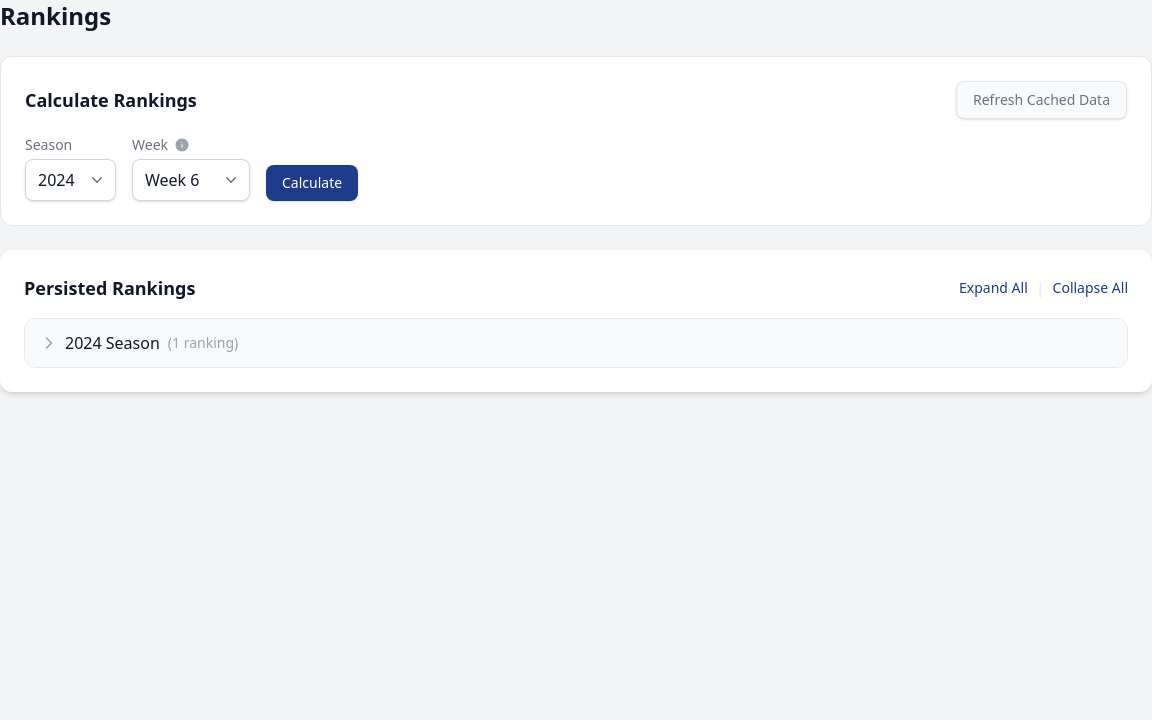
Test case: RankingsSnapshotsPage › does not delete when confirm modal is cancelled
The image size is (1152, 720).
Click the text "2024 Season": (112, 343) [65,331,160,355]
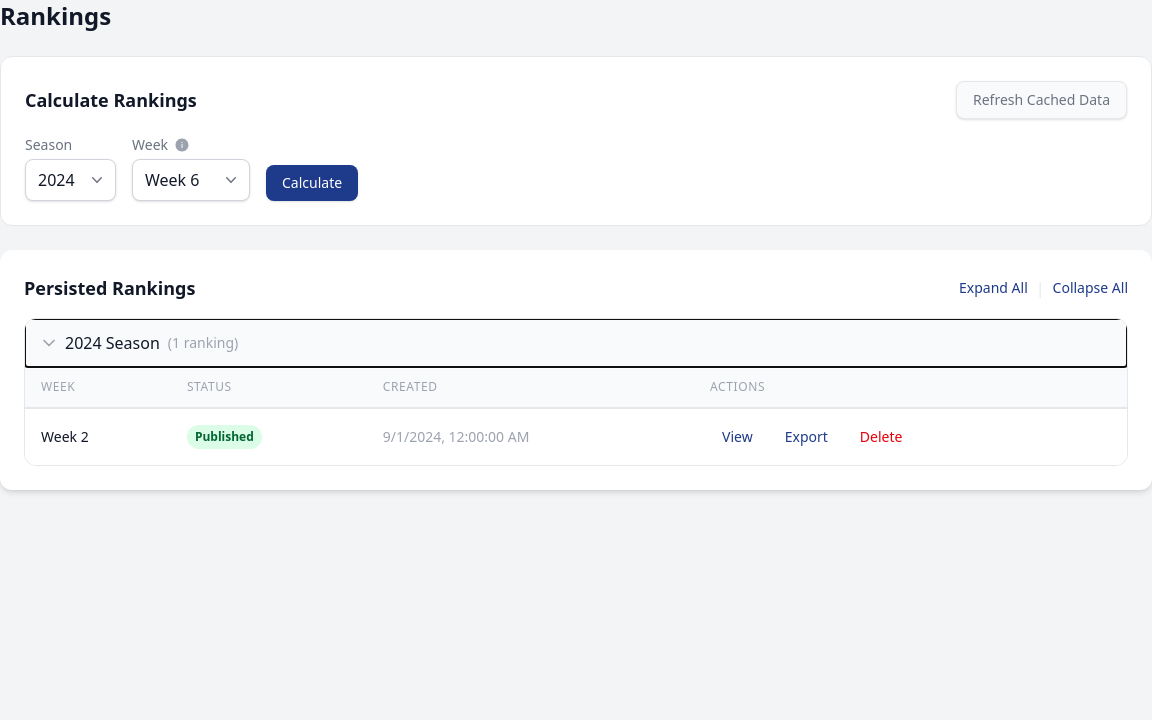
Click the button "Delete": (881, 437) [848,421,914,453]
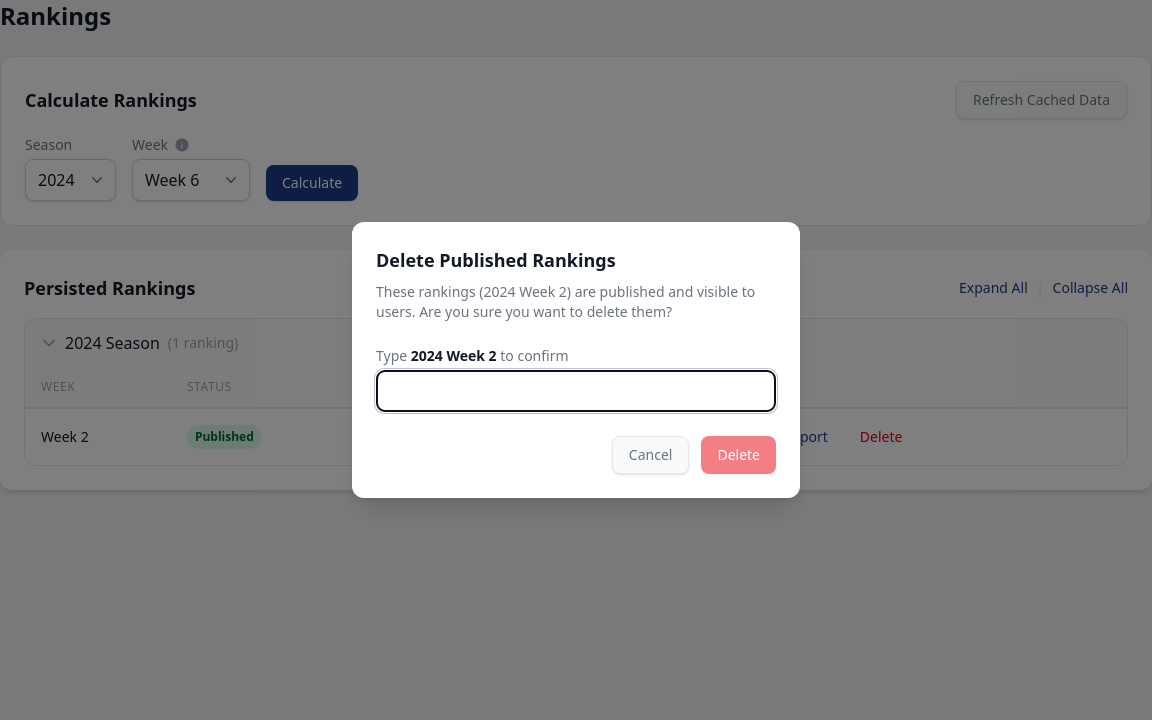
Expected: the dialog is shown
Click the button "Cancel": (651, 455) [612,436,689,474]
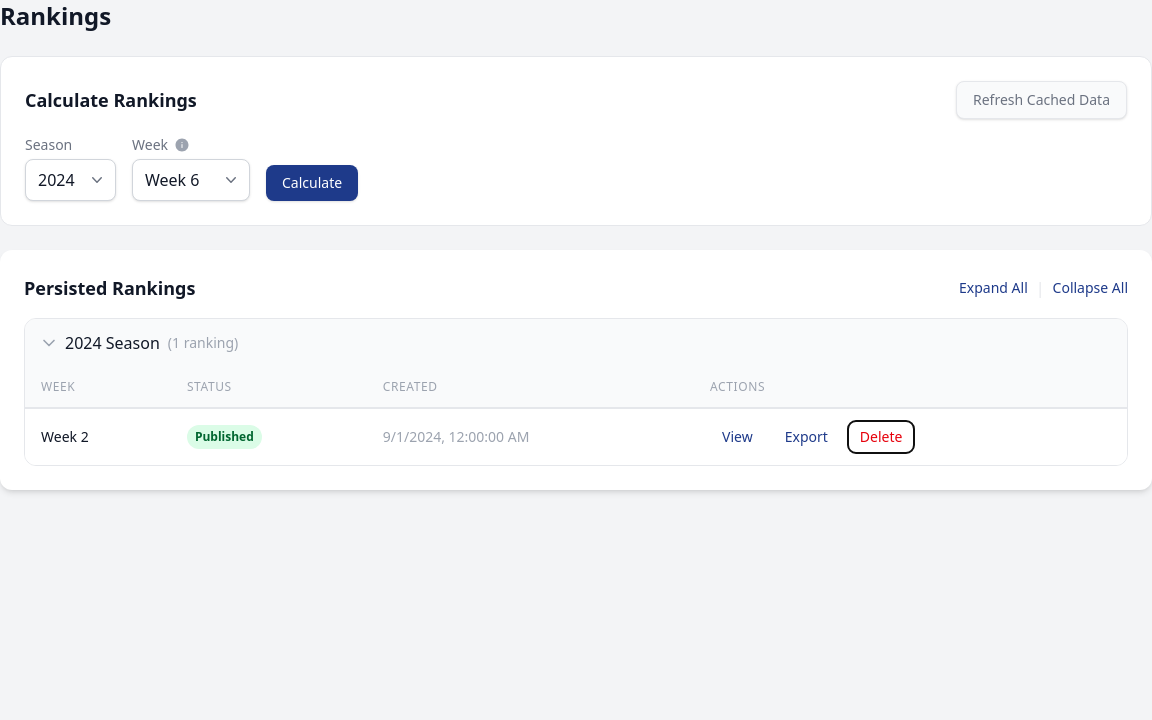
Expected: the dialog is gone
